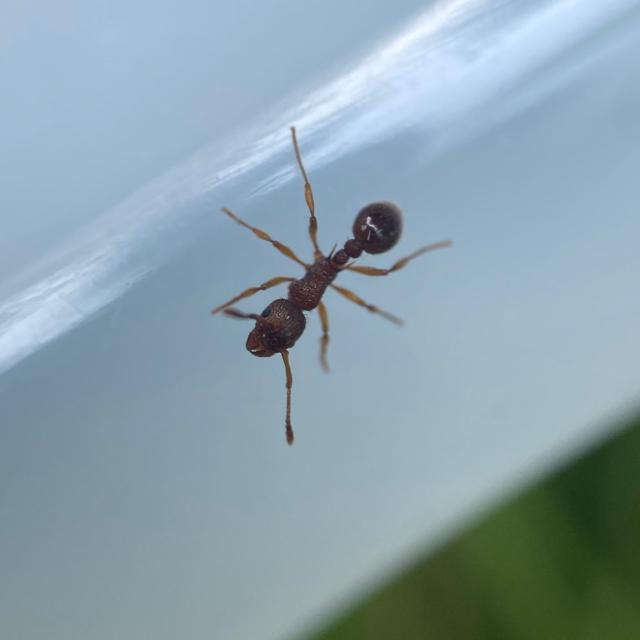Myrmica: (214, 169, 438, 389)
